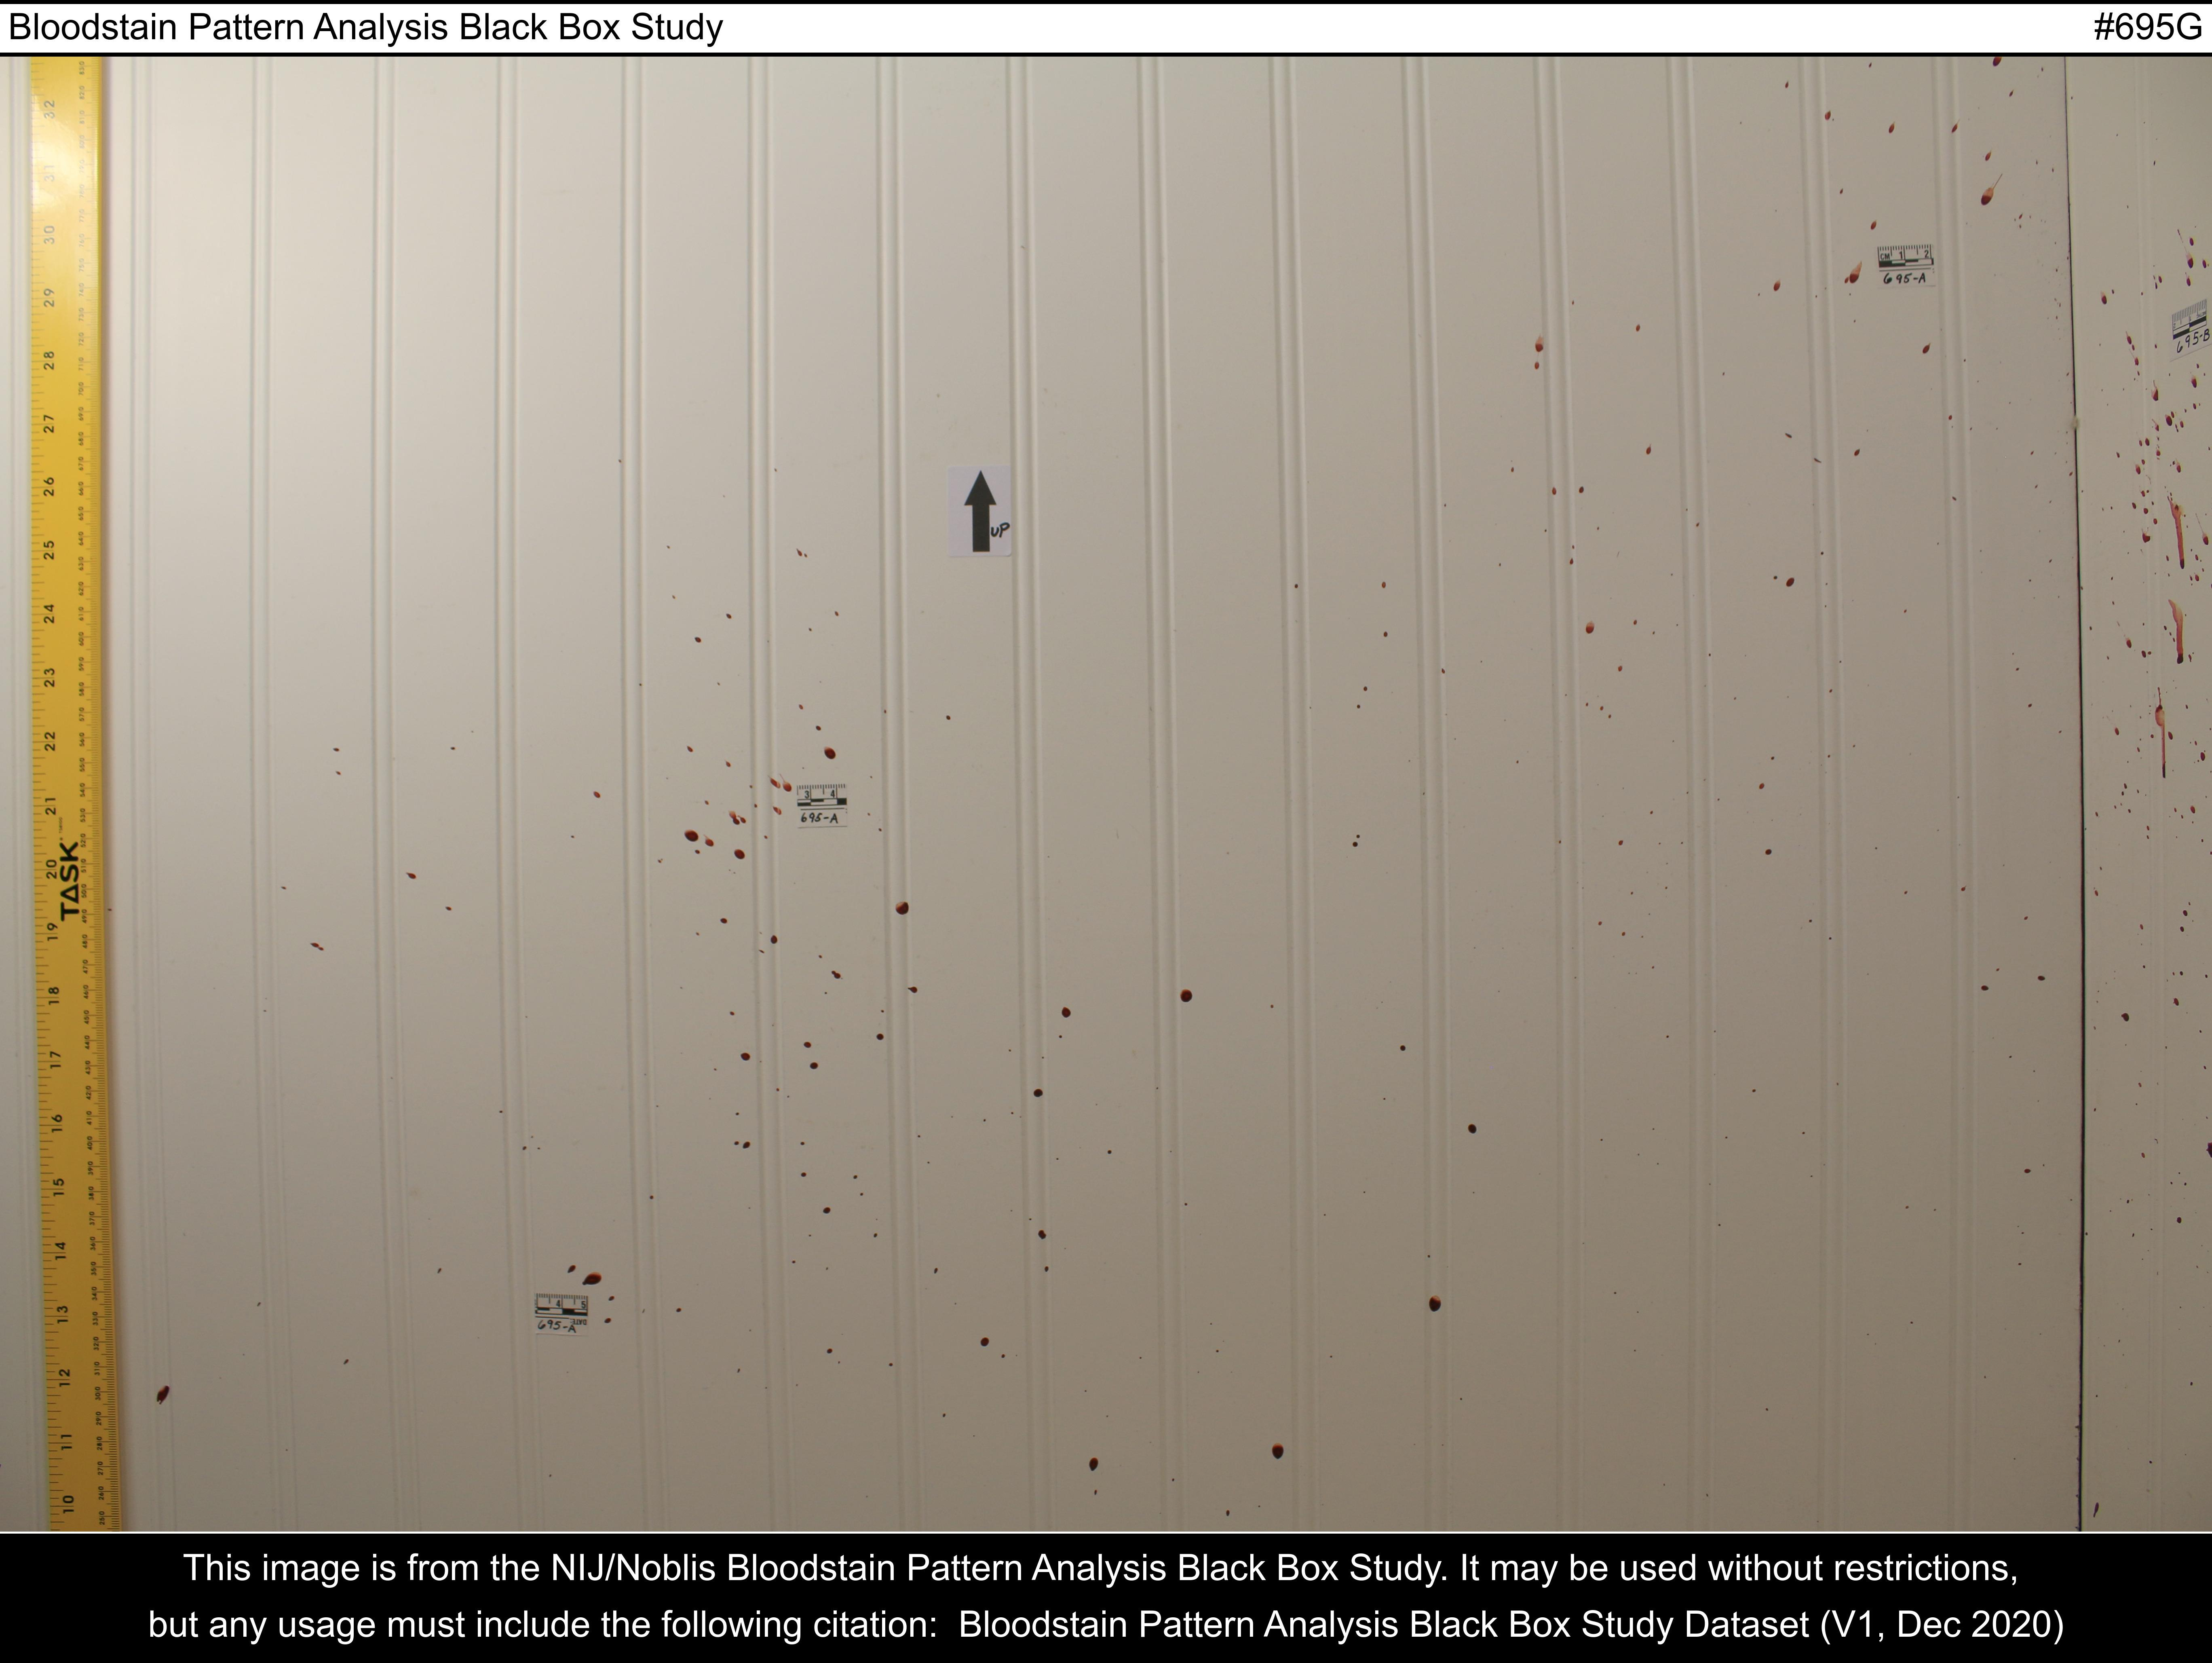Impact: (138, 73, 2212, 1520)
